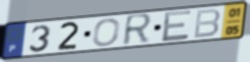2: (57, 20, 81, 51)
3: (28, 23, 53, 53)
B: (192, 8, 222, 40)
E: (161, 8, 193, 44)
O: (91, 17, 122, 48)
R: (121, 12, 155, 48)
